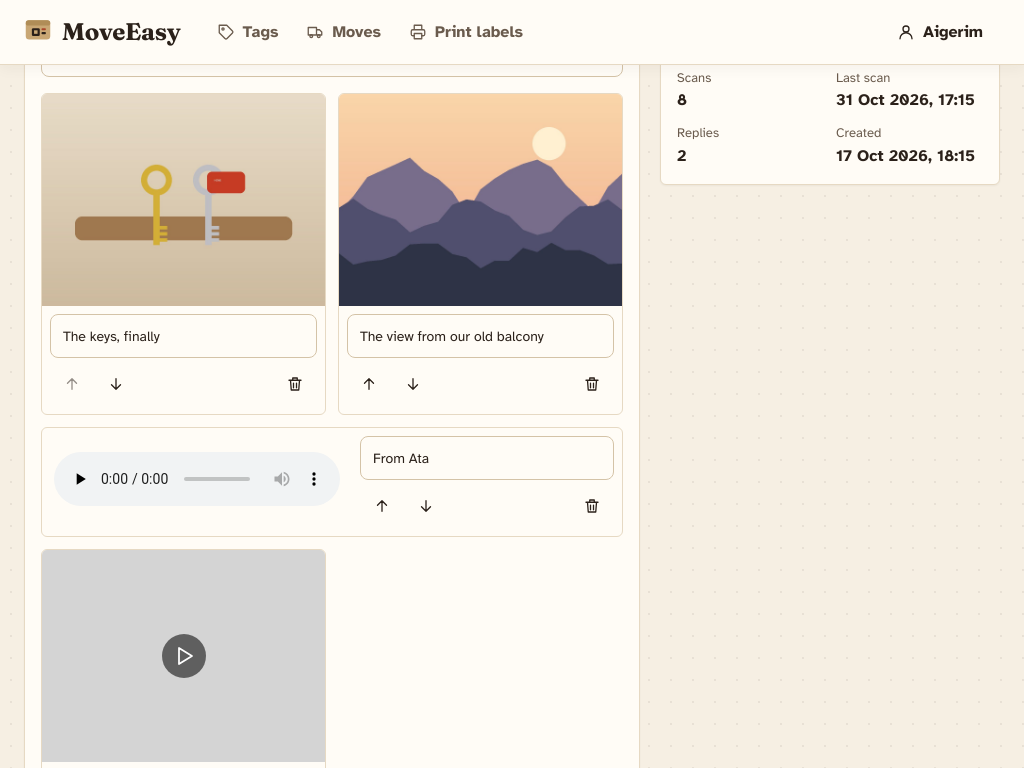
it: media › deletes after confirming
(page scrolled)
Click the button named "Delete item 1".
click(295, 384)  # box [273,362,317,406]
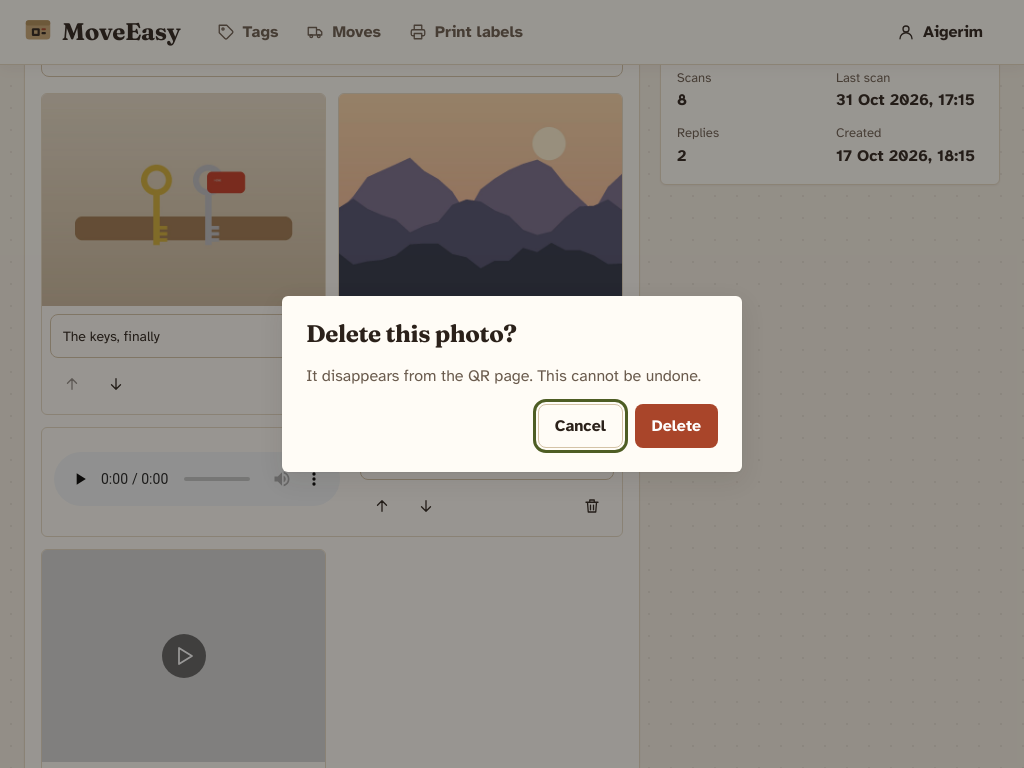
Click the button "Delete".
click(676, 426)  # box [635,404,718,448]
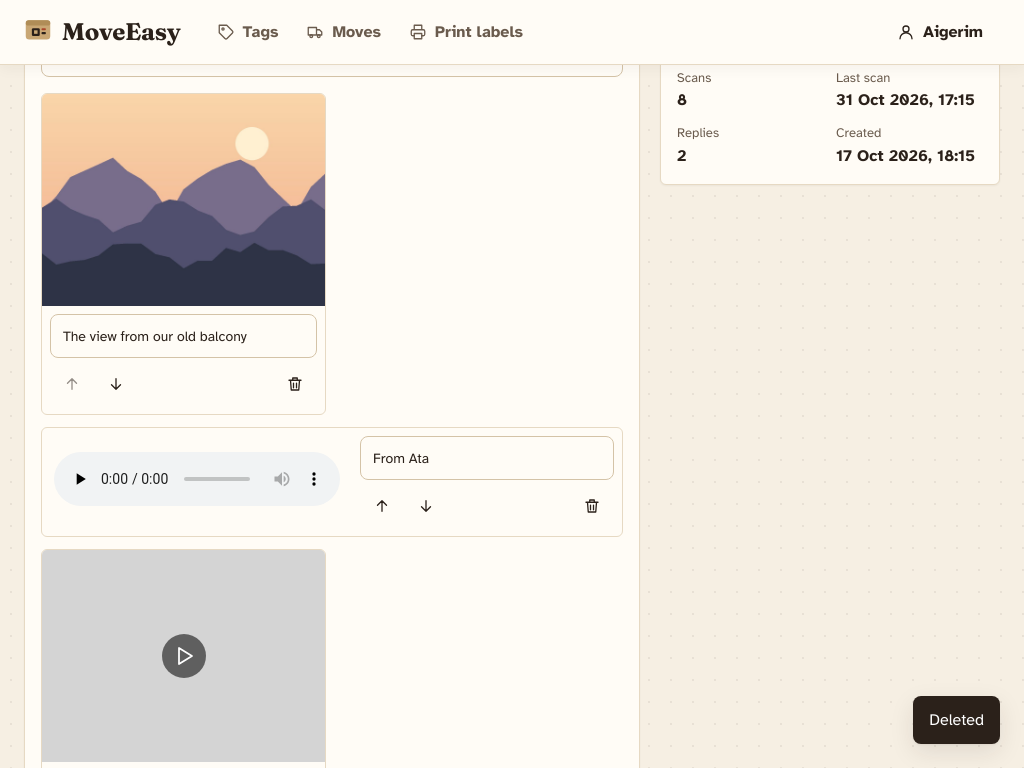
Check: the text "Deleted" is shown, box [929,708,984,732]
